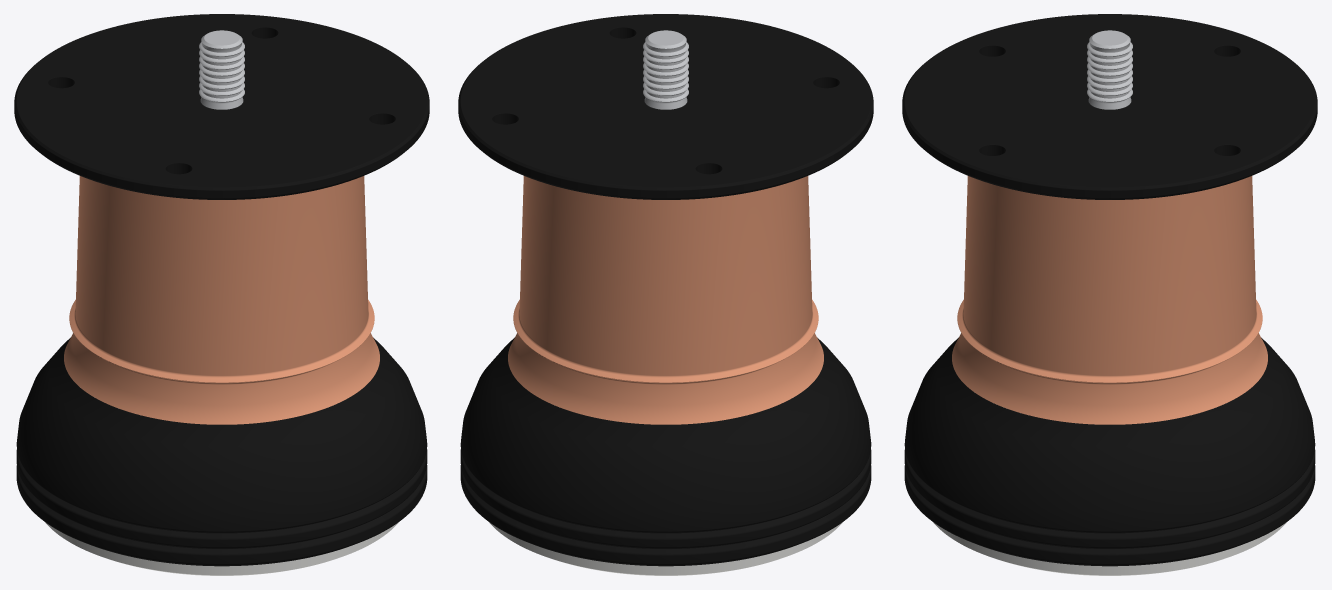
File: sofa-legs-1266.glb
3 views of the same model, side by side, from view 1: azimuth 30°, elevation 25°; view 2: azimuth 150°, elevation 25°; view 3: azimuth 270°, elevation 25° (orthographic).
Parts seen in each view (by area): view 1: Body, Plate, Stud, Glide; view 2: Body, Plate, Stud, Glide; view 3: Body, Plate, Stud, Glide.
Boxes of the visible parts, x1=… form: Body: x1=16, y1=176, x2=427, y2=566; Plate: x1=14, y1=14, x2=429, y2=199; Stud: x1=199, y1=30, x2=244, y2=109; Glide: x1=45, y1=522, x2=398, y2=575; Body: x1=460, y1=176, x2=871, y2=566; Plate: x1=458, y1=14, x2=873, y2=199; Stud: x1=643, y1=30, x2=688, y2=109; Glide: x1=489, y1=522, x2=842, y2=575; Body: x1=904, y1=176, x2=1315, y2=566; Plate: x1=902, y1=14, x2=1317, y2=199; Stud: x1=1087, y1=30, x2=1132, y2=109; Glide: x1=933, y1=522, x2=1286, y2=575.
Bounding box in the file's own units: 0.072 × 0.0882 × 0.072.
